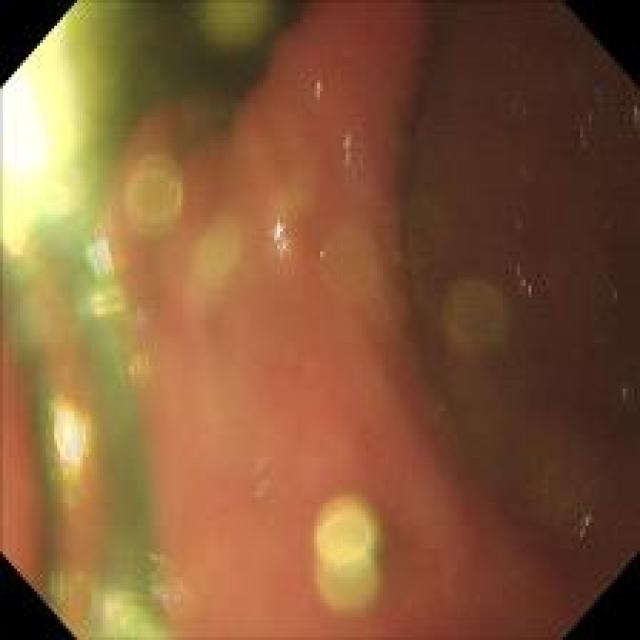color misalignment: (11, 11, 625, 625), (4, 56, 156, 631), (62, 4, 289, 188), (302, 498, 398, 625), (444, 266, 511, 356), (379, 186, 446, 269), (189, 215, 240, 312), (320, 220, 379, 300), (126, 159, 185, 235), (48, 394, 90, 485), (75, 222, 124, 285), (75, 284, 134, 324), (568, 510, 598, 542)
saturation: (14, 72, 84, 240)
specularity: (268, 215, 298, 261), (84, 236, 119, 275), (334, 130, 356, 176)
